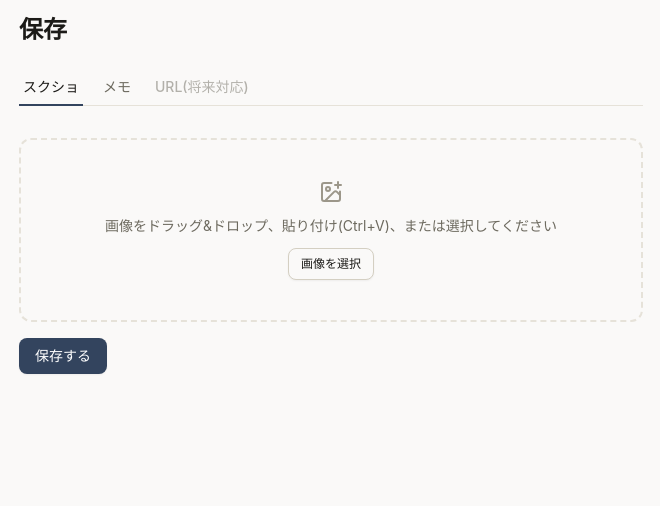
Test: SaveNotePage › 本文が空のまま送信するとバリデーションエラーを表示し送信しない
The image size is (660, 506).
Click the tab "メモ" at (117, 88), box [99,70,135,106]
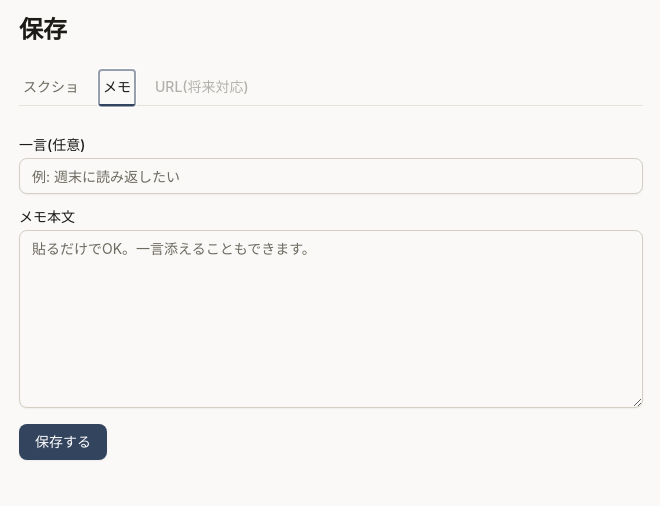
Click the button "保存する" at (63, 442), box [19,424,107,460]
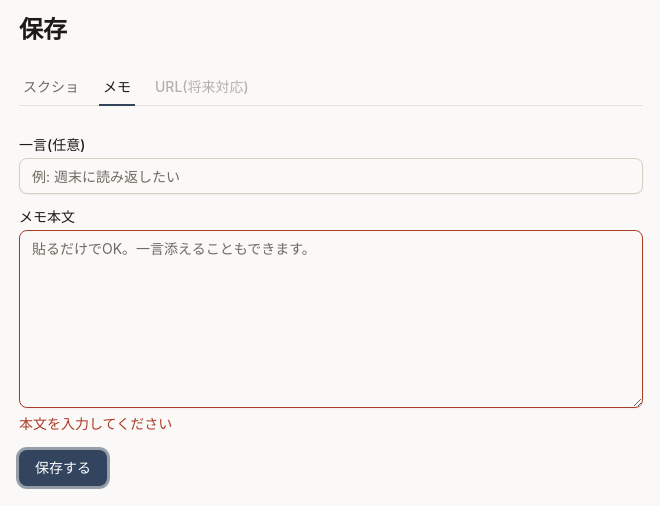
Now the text "本文を入力してください" is shown, box [19,415,172,432]
